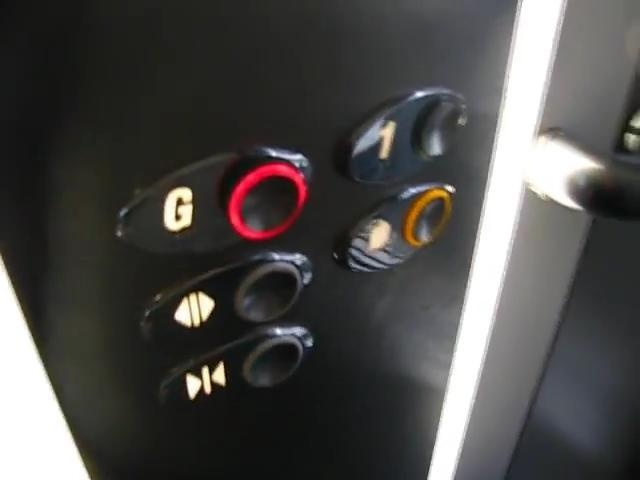1: (336, 83, 471, 187)
G: (113, 144, 314, 258)
alarm: (336, 180, 458, 279)
close: (155, 323, 315, 421)
open: (139, 247, 313, 350)
